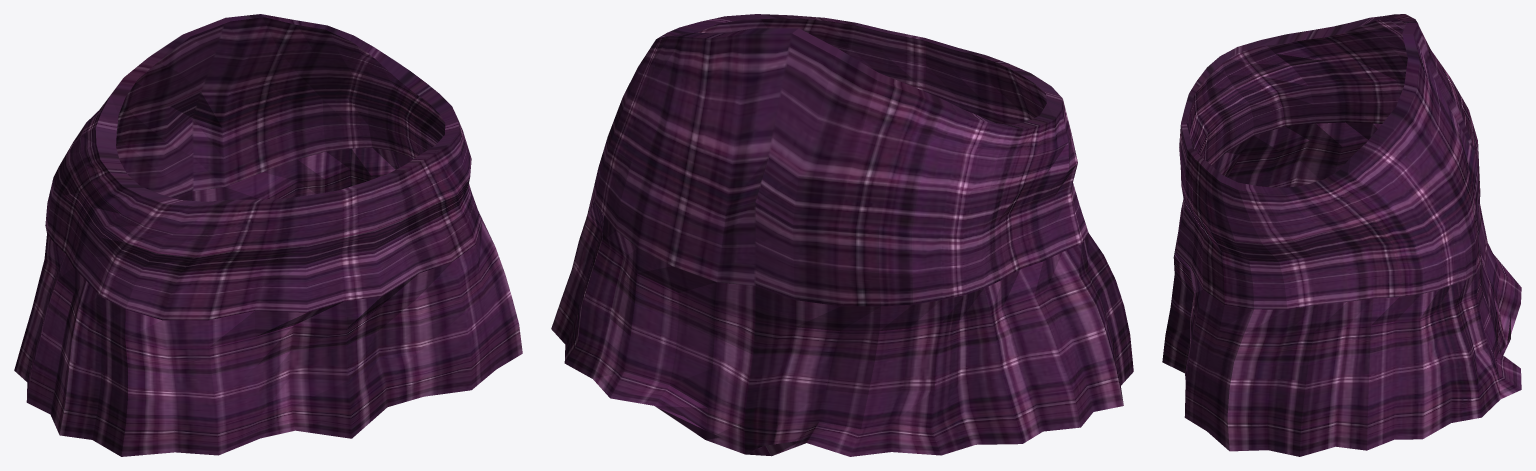
File: mhw_callharvey3d_harvey_pskirt01.glb
3 views of the same model, side by side, from view 1: azimuth 30°, elevation 25°; view 2: azimuth 150°, elevation 25°; view 3: azimuth 270°, elevation 25° (orthographic). The views are drawn at different scales.
Visible parts, largest first — view 1: mhw_callharvey3d_harvey_pskirt01; view 2: mhw_callharvey3d_harvey_pskirt01; view 3: mhw_callharvey3d_harvey_pskirt01.
Part boxes in pixels (bbox=[...]): mhw_callharvey3d_harvey_pskirt01: bbox=[14, 14, 522, 456]; mhw_callharvey3d_harvey_pskirt01: bbox=[551, 14, 1133, 456]; mhw_callharvey3d_harvey_pskirt01: bbox=[1162, 14, 1521, 456].
Bounding box in the file's own units: 0.4598 × 0.3298 × 0.3179.
1 material, 1 textured.
